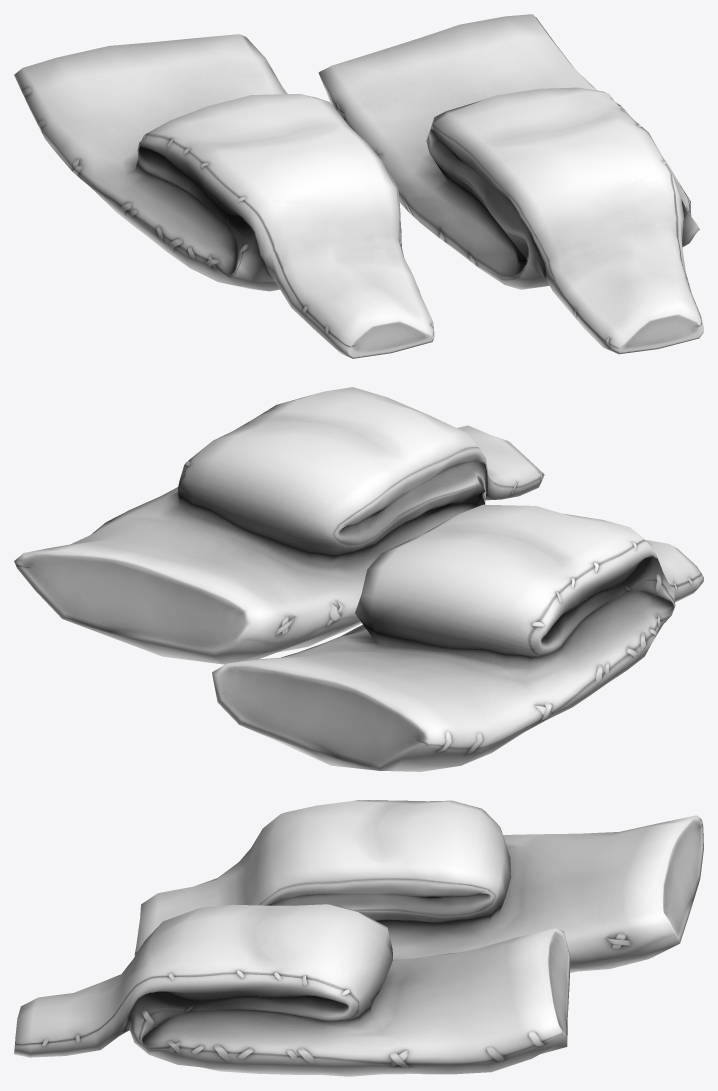
The model's file is 035_leather_leggings_low.fbx.
3 views of the same model, one above another, from view 1: azimuth 30°, elevation 25°; view 2: azimuth 150°, elevation 25°; view 3: azimuth 270°, elevation 25° (orthographic). The views are drawn at different scales.
Parts seen in each view (by area): view 1: 035_leather_leggings; view 2: 035_leather_leggings; view 3: 035_leather_leggings.
Part boxes in pixels (left/top/right/bottom): 035_leather_leggings: left=14, top=14, right=703, bottom=358; 035_leather_leggings: left=14, top=387, right=703, bottom=771; 035_leather_leggings: left=14, top=800, right=703, bottom=1076.
Bounding box in the file's own units: 34.9 × 9.52 × 45.66.
